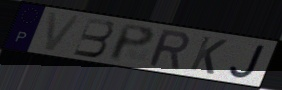B: (71, 17, 116, 59)
J: (227, 43, 267, 80)
K: (187, 35, 230, 77)
P: (107, 23, 156, 64)
R: (146, 28, 191, 72)
V: (43, 11, 84, 53)
